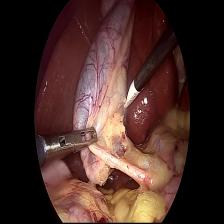Grasper: (39, 126, 99, 158)
Hook: (121, 80, 141, 110)
